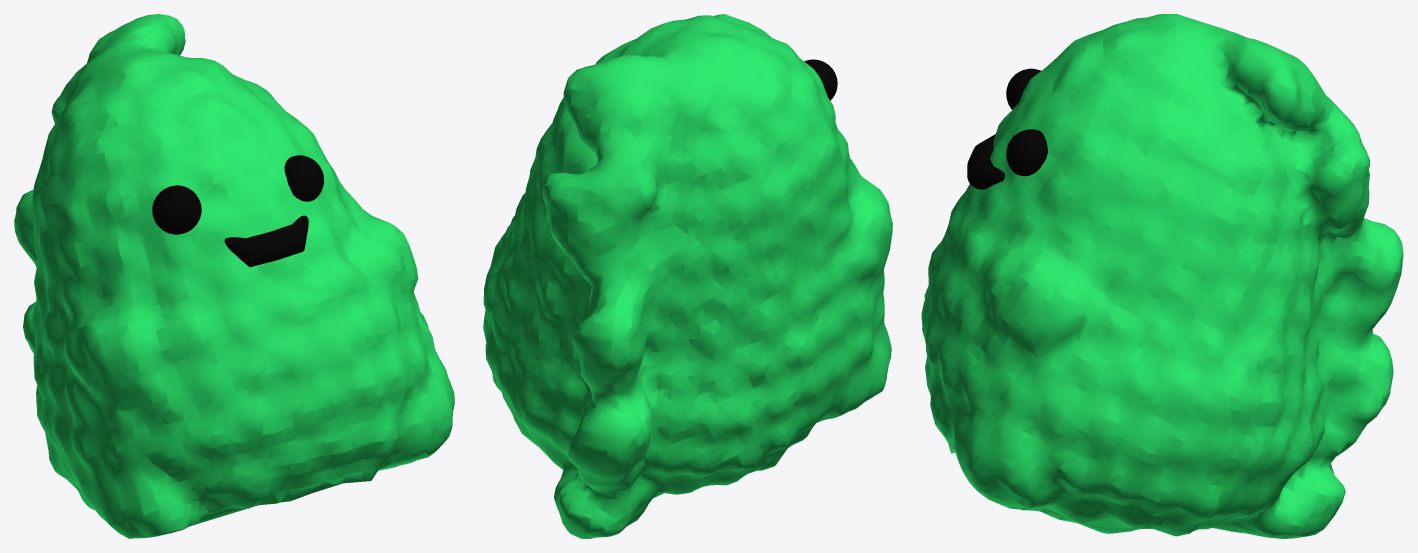
File: dino plush.glb
3 renders of one model, left to right at view 1: azimuth 30°, elevation 25°; view 2: azimuth 150°, elevation 25°; view 3: azimuth 270°, elevation 25°, orthographic. The views are drawn at different scales.
Visible parts, largest first — view 1: 1209_01_mesh, Cylinder, Sphere, Sphere.001; view 2: 1209_01_mesh, Sphere; view 3: 1209_01_mesh, Sphere.001, Cylinder, Sphere.
Part boxes in pixels (box(x1,y1,x2,y2)): 1209_01_mesh: box(14, 14, 454, 538); Cylinder: box(224, 215, 308, 267); Sphere: box(152, 185, 201, 234); Sphere.001: box(284, 155, 323, 201); 1209_01_mesh: box(483, 14, 892, 538); Sphere: box(804, 59, 837, 100); 1209_01_mesh: box(921, 14, 1403, 538); Sphere.001: box(1006, 129, 1047, 176); Cylinder: box(967, 134, 1004, 189); Sphere: box(1006, 68, 1040, 109).
Size of the model in its own units: 16.47 by 21.19 by 19.16.
